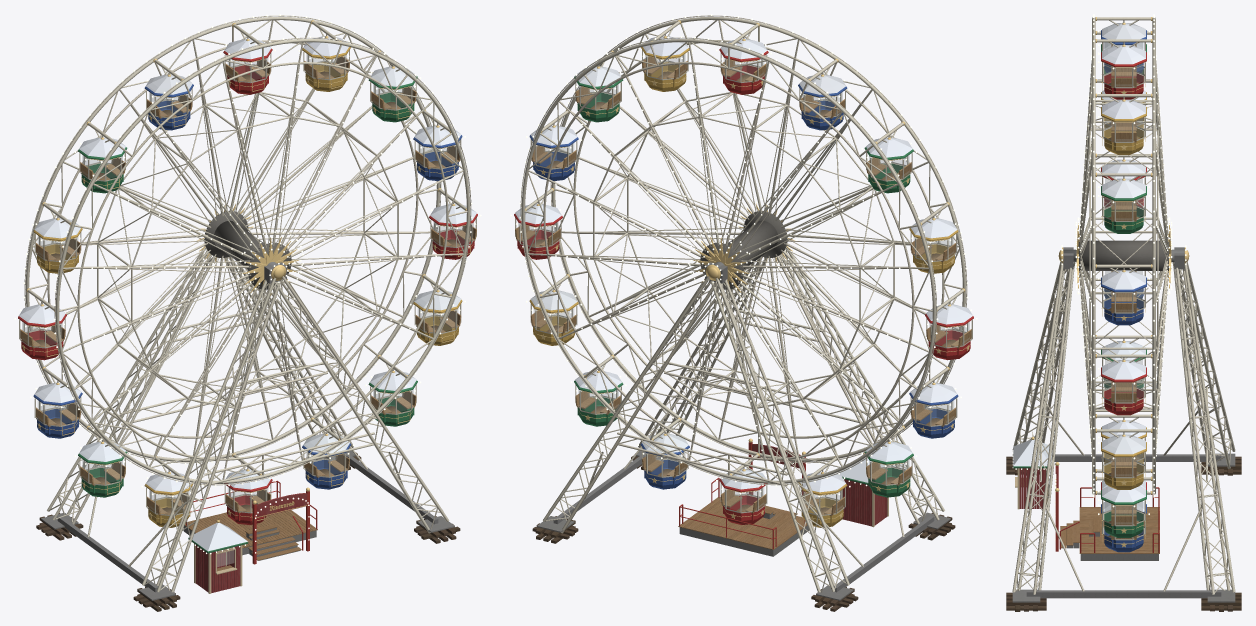
Rendered from ferris.glb.
3 renders of one model, left to right at view 1: azimuth 30°, elevation 25°; view 2: azimuth 150°, elevation 25°; view 3: azimuth 270°, elevation 25°, orthographic.
Parts seen in each view (by area): view 1: wheel_steel, frame_steel, frame_dark, frame_paint, frame_wood, wheel_hub, bulbs_wheel, frame_sleepers, wheel_gilt, snow_base, gond13_body, gond14_body (+18 smaller); view 2: wheel_steel, frame_steel, frame_dark, frame_wood, wheel_hub, bulbs_wheel, frame_paint, frame_sleepers, wheel_gilt, gond13_body, gond14_body, gond0_body (+17 smaller); view 3: frame_steel, wheel_steel, frame_dark, frame_wood, wheel_hub, bulbs_wheel, frame_sleepers, frame_paint, gond5_body, gond6_body, gond2_body, gond3_body (+39 smaller).
Part boxes in pixels (x1=…): wheel_steel: x1=24, y1=15, x2=471, y2=485; frame_steel: x1=47, y1=246, x2=449, y2=592; frame_dark: x1=41, y1=262, x2=454, y2=600; frame_paint: x1=194, y1=493, x2=307, y2=593; frame_wood: x1=184, y1=510, x2=317, y2=571; wheel_hub: x1=204, y1=211, x2=291, y2=289; bulbs_wheel: x1=23, y1=14, x2=472, y2=486; frame_sleepers: x1=36, y1=452, x2=460, y2=611; wheel_gilt: x1=26, y1=20, x2=466, y2=477; snow_base: x1=188, y1=522, x2=247, y2=551; gond13_body: x1=33, y1=392, x2=82, y2=438; gond14_body: x1=78, y1=451, x2=127, y2=497; wheel_steel: x1=520, y1=15, x2=967, y2=485; frame_steel: x1=543, y1=246, x2=944, y2=592; frame_dark: x1=537, y1=261, x2=950, y2=600; frame_wood: x1=678, y1=497, x2=807, y2=549; wheel_hub: x1=700, y1=211, x2=787, y2=289; bulbs_wheel: x1=519, y1=14, x2=968, y2=486; frame_paint: x1=752, y1=444, x2=888, y2=527; frame_sleepers: x1=532, y1=455, x2=955, y2=611; wheel_gilt: x1=525, y1=20, x2=965, y2=477; gond13_body: x1=909, y1=392, x2=958, y2=438; gond14_body: x1=864, y1=451, x2=913, y2=497; gond0_body: x1=719, y1=479, x2=767, y2=524; frame_steel: x1=1012, y1=261, x2=1235, y2=594; wheel_steel: x1=1079, y1=17, x2=1168, y2=494; frame_dark: x1=1012, y1=247, x2=1235, y2=602; frame_wood: x1=1021, y1=478, x2=1159, y2=553; wheel_hub: x1=1079, y1=232, x2=1168, y2=280; bulbs_wheel: x1=1075, y1=14, x2=1172, y2=497; frame_sleepers: x1=1006, y1=456, x2=1241, y2=611; frame_paint: x1=1015, y1=468, x2=1057, y2=509; gond5_body: x1=1101, y1=277, x2=1146, y2=325; gond6_body: x1=1101, y1=186, x2=1146, y2=233; gond2_body: x1=1101, y1=490, x2=1146, y2=537; gond3_body: x1=1101, y1=442, x2=1146, y2=489.
Size of the model in its own units: 24.87 by 26.12 by 11.1.
Materials: 7 (3 with a texture image).
